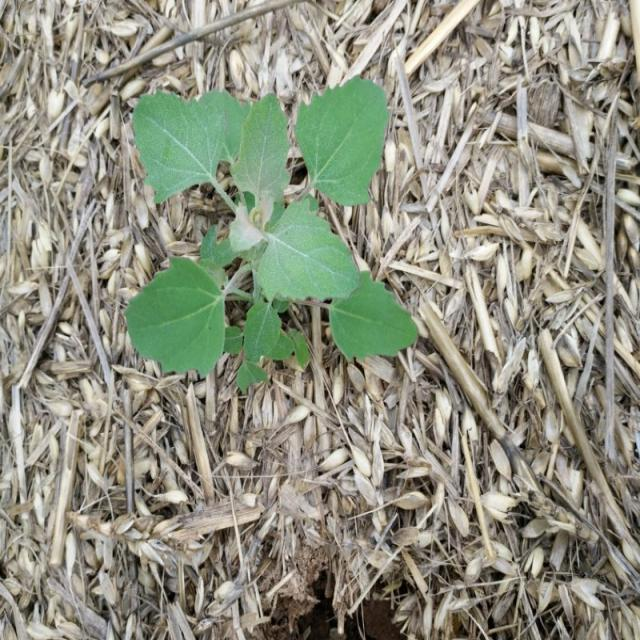goosefoots: (110, 50, 402, 384)
